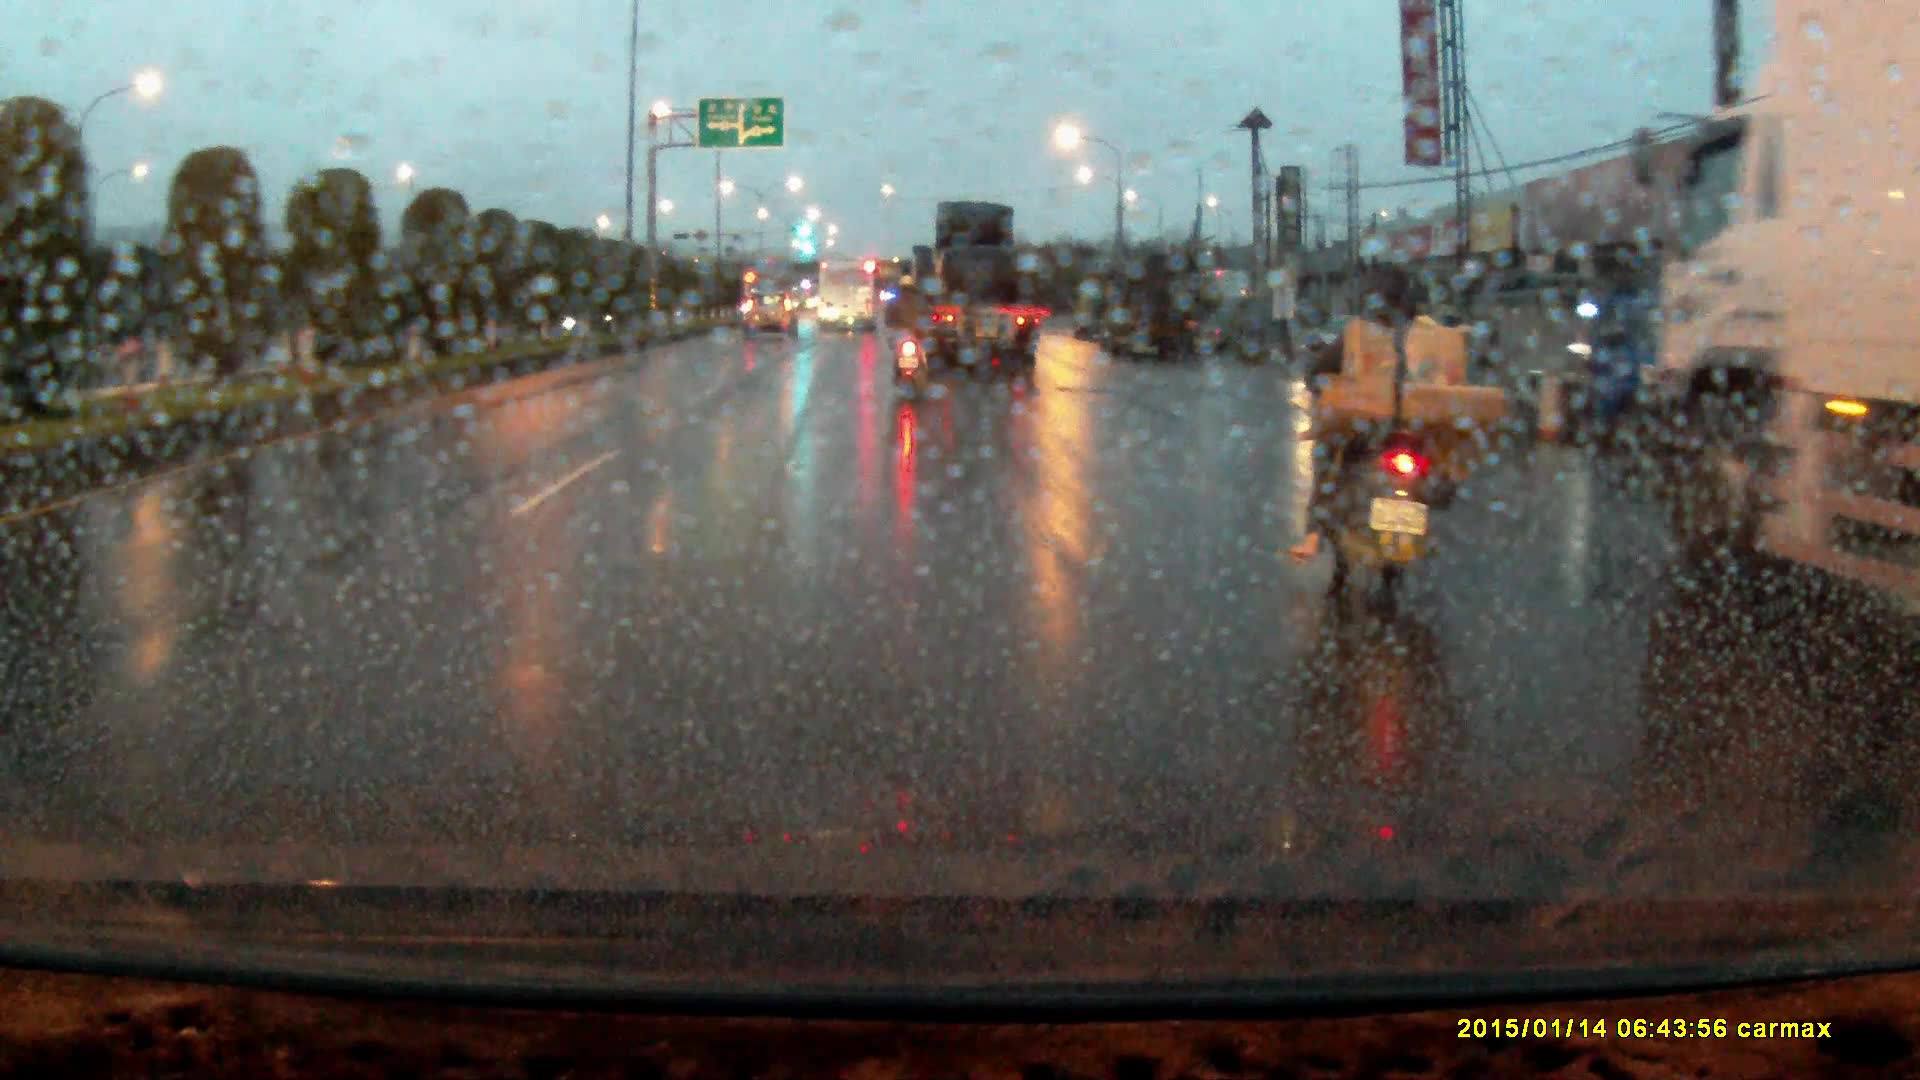rider: (1293, 252, 1516, 639), (887, 268, 938, 385)
vehicle: (1638, 3, 1920, 614), (1495, 288, 1663, 446), (897, 197, 1042, 376), (1109, 254, 1206, 364), (817, 258, 880, 336), (743, 292, 799, 340), (1072, 279, 1118, 337)
